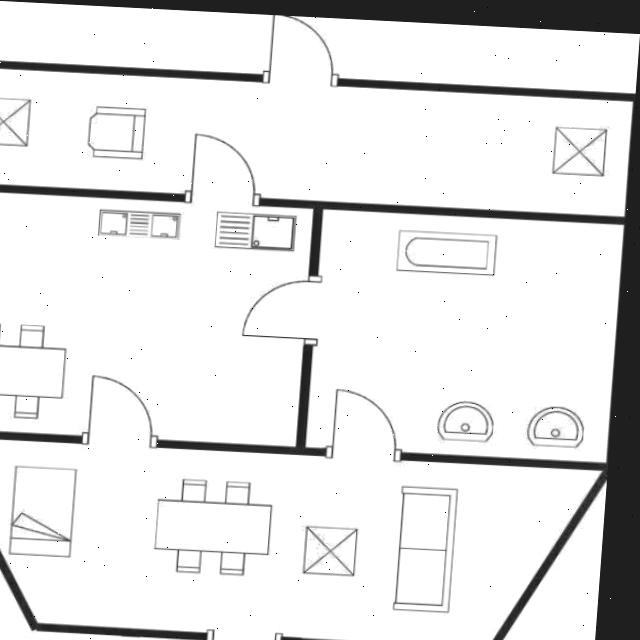room: (0, 438, 602, 640), (0, 68, 633, 216), (306, 208, 624, 462), (0, 192, 313, 446)
